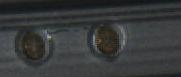joints: (13, 26, 55, 64), (89, 20, 128, 60)
